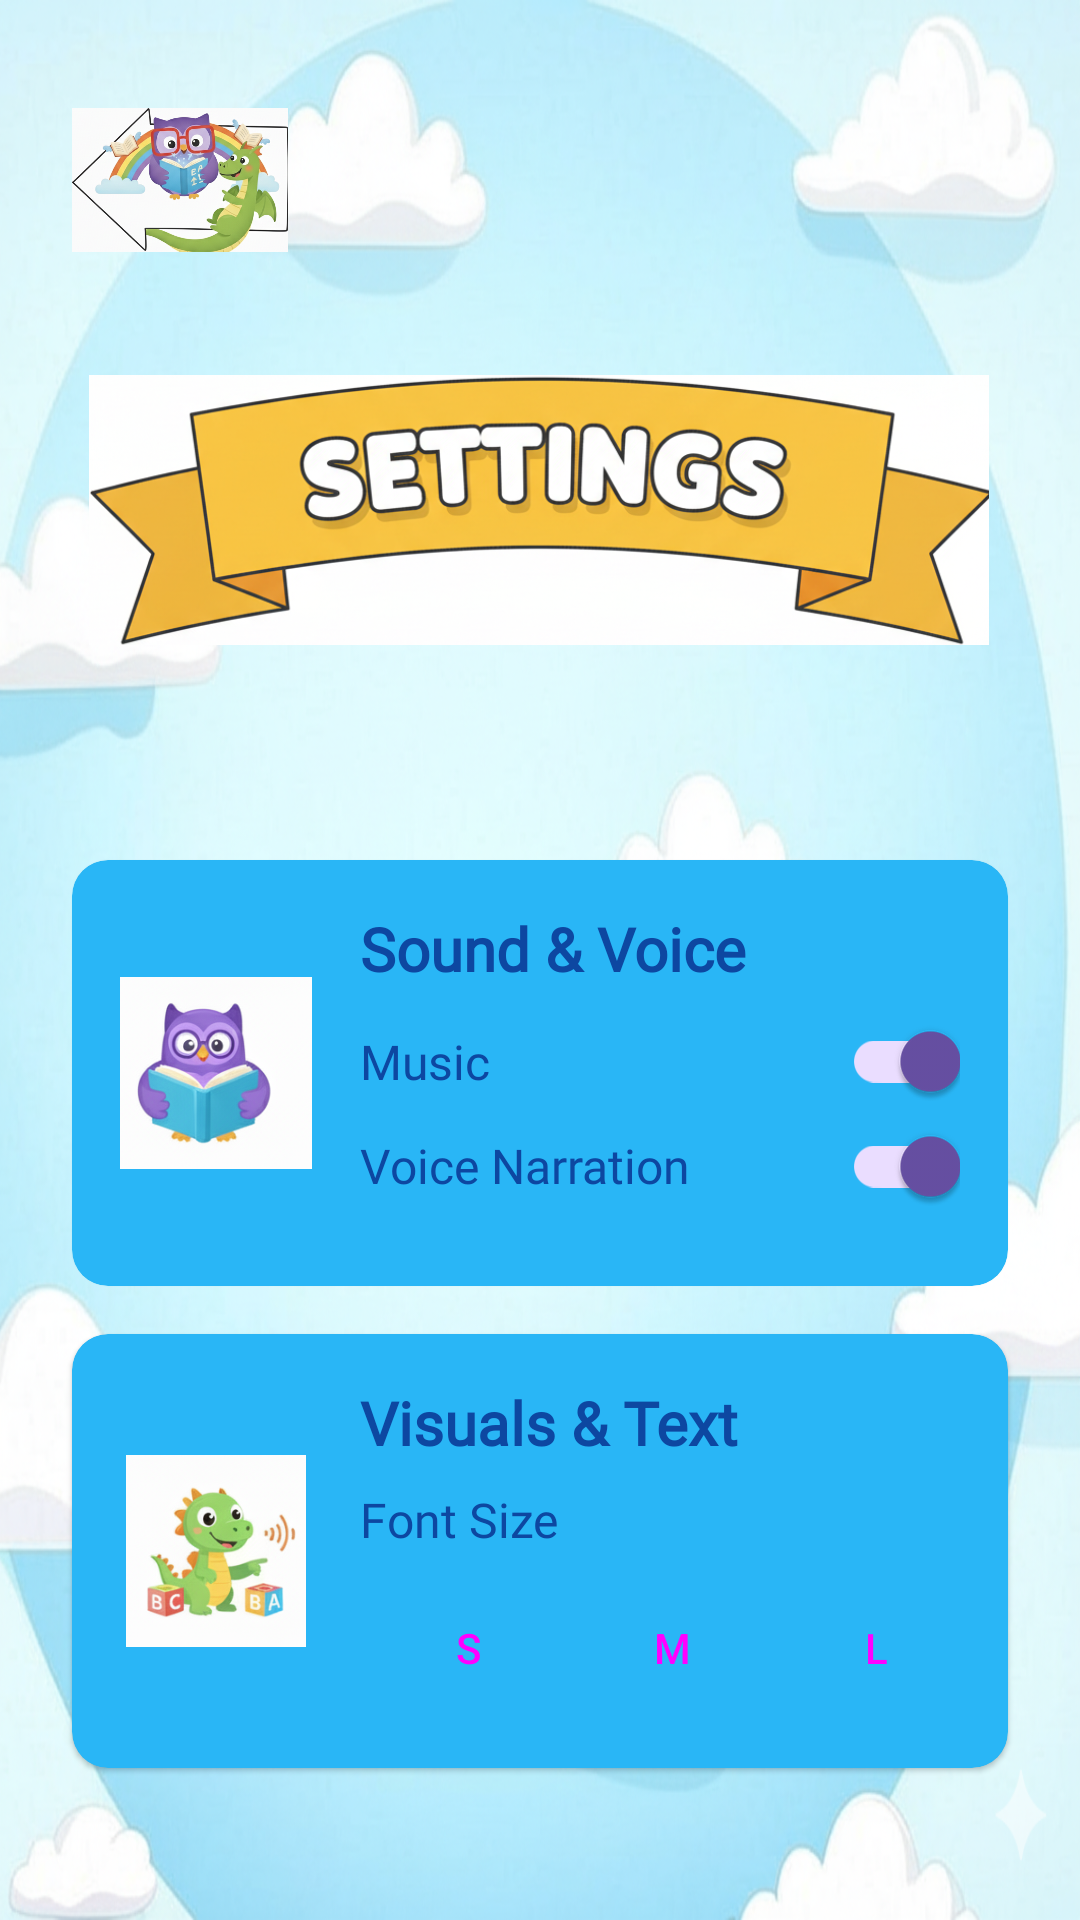

Icon bounding boxes for this 1080px×1920px phone screenshot, format box=[x1, y1, x2, y2]:
dino: box=[126, 1455, 306, 1647]
owl: box=[120, 977, 312, 1169]
